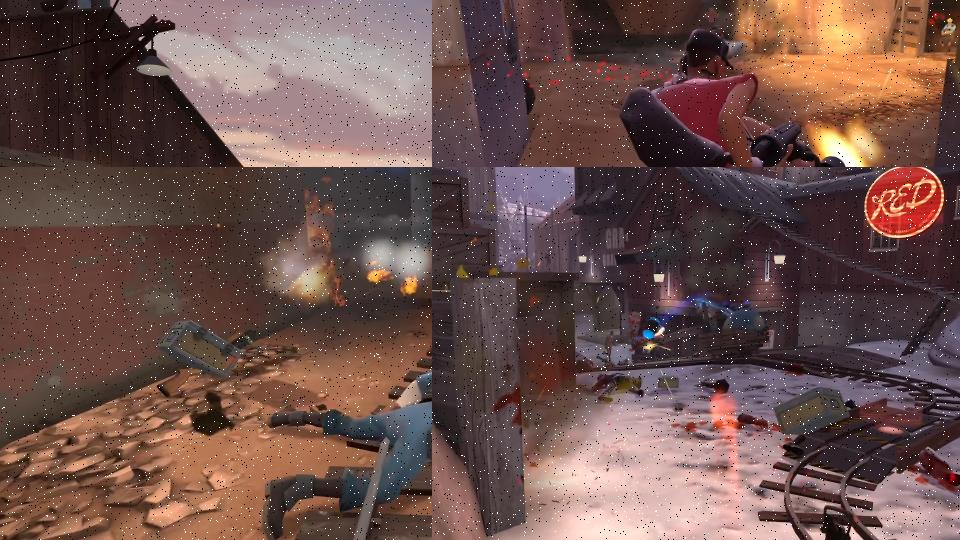Enemy: (262, 363, 432, 540), (619, 26, 802, 167), (664, 52, 847, 167), (643, 322, 666, 362), (939, 17, 957, 53), (603, 331, 619, 366)
